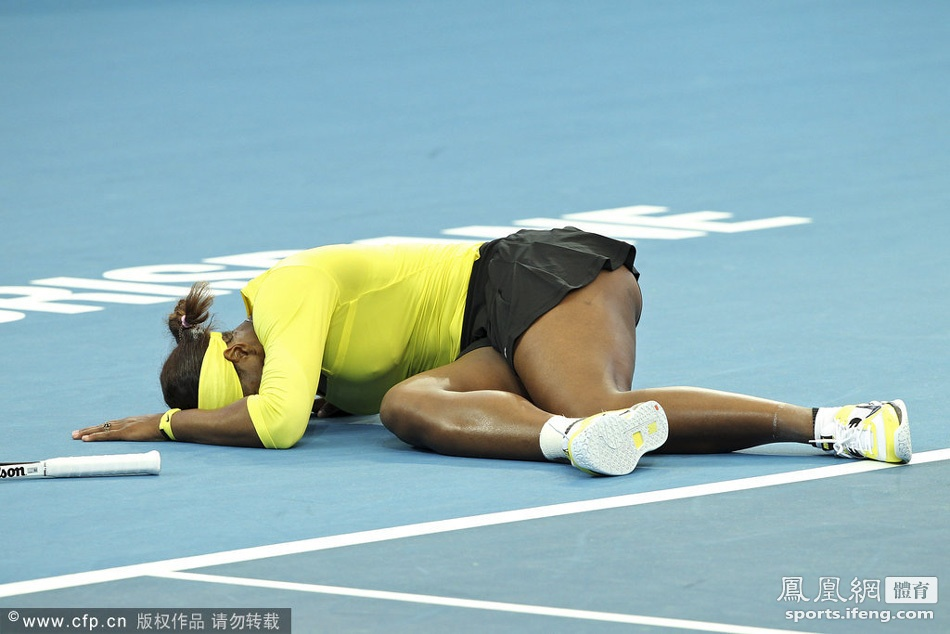falling: (79, 209, 895, 488)
